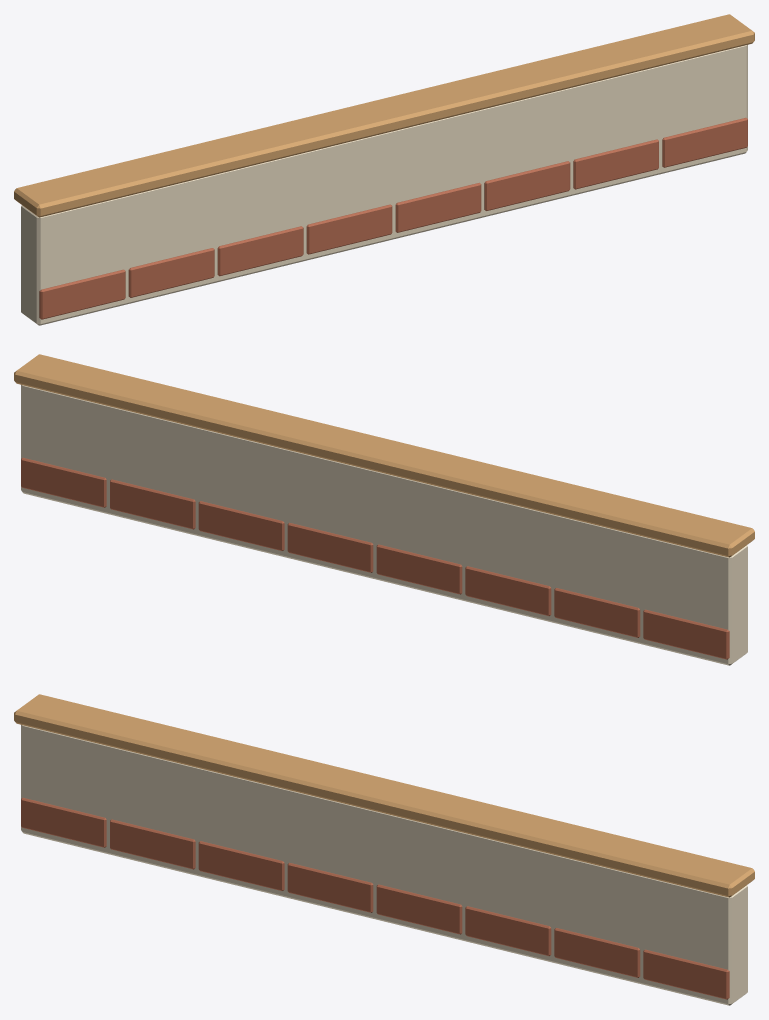
The model's file is wall-low.glb.
The picture shows the model from 3 angles, top to bottom: view 1: azimuth 30°, elevation 25°; view 2: azimuth 150°, elevation 25°; view 3: azimuth 330°, elevation 25°; orthographic projection.
Parts seen in each view (by area): view 1: wall_low; view 2: wall_low; view 3: wall_low.
Part boxes in pixels (box(x1,y1,x2,y2)): wall_low: box(14, 14, 754, 325); wall_low: box(14, 354, 754, 665); wall_low: box(14, 694, 754, 1005).
Bounding box in the file's own units: 4.04 × 0.67 × 0.25.
